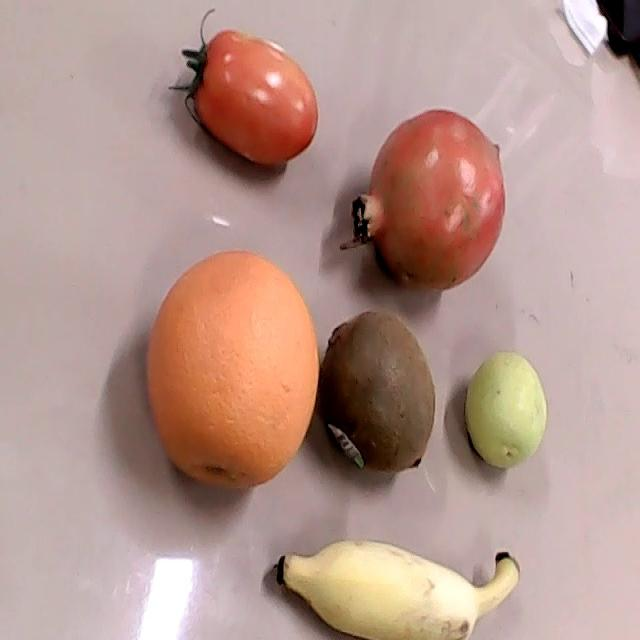kiwi: (317, 309, 436, 476)
lemon: (463, 350, 547, 471)
orange: (146, 251, 318, 490)
pomegranate: (340, 110, 506, 291)
tomato: (169, 10, 318, 167)
